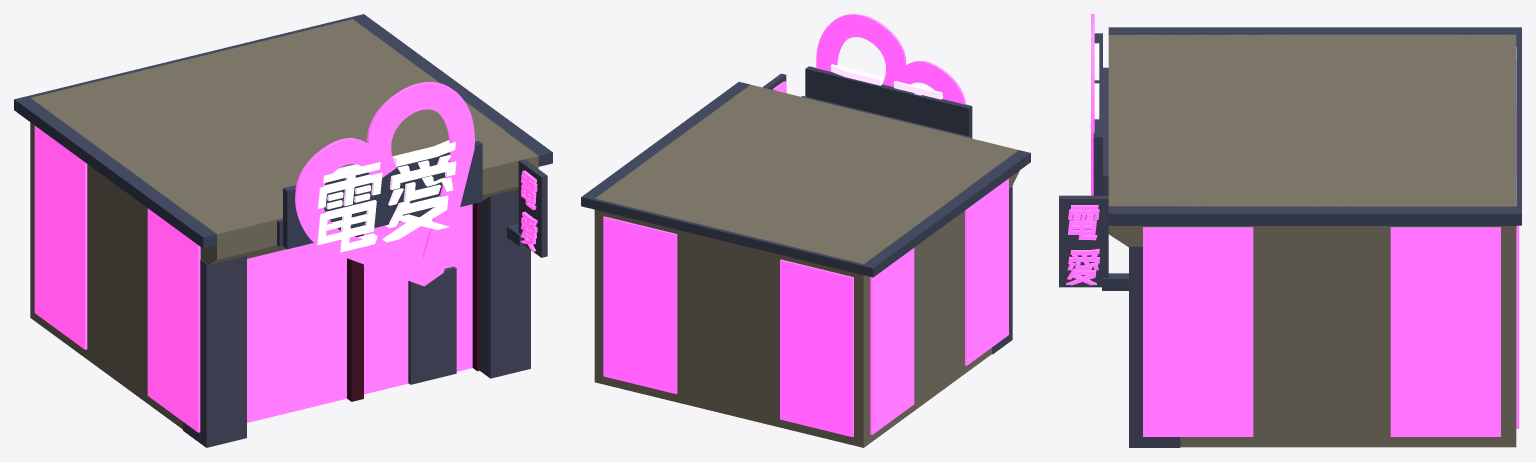
The picture shows the model from 3 angles, left to right: view 1: azimuth 30°, elevation 25°; view 2: azimuth 150°, elevation 25°; view 3: azimuth 270°, elevation 25°; orthographic projection. The views are drawn at different scales.
Parts seen in each view (by area): view 1: Cube.028, Cube.002, Text.003, Cube.017, Cube.016, Cube.007, Cube, Text.002, Cube.001, Cube.006, Cube.018, Cube.011 (+6 smaller); view 2: Cube.028, Cube.013, Cube.014, Cube.001, Cube.016, Cube.017, Cube.011, Text.003, Cube.020, Cube.018, Cube.019, Text.002 (+1 smaller); view 3: Cube.028, Cube.012, Cube.015, Cube.001, Cube.019, Cube.018, Cube, Cube.008, Text, Cube.020, Cube.011, Cube.013 (+4 smaller).
Part boxes in pixels (x1,y1,x2,y2): Cube.028: [30, 19, 505, 429]; Cube.002: [247, 204, 472, 422]; Text.003: [295, 82, 474, 286]; Cube.017: [147, 208, 200, 432]; Cube.016: [34, 125, 87, 349]; Cube.007: [183, 255, 246, 447]; Cube: [479, 189, 530, 378]; Text.002: [317, 140, 456, 252]; Cube.001: [184, 132, 538, 264]; Cube.006: [408, 266, 456, 384]; Cube.018: [16, 98, 216, 248]; Cube.011: [283, 140, 482, 249]; Cube.028: [594, 104, 992, 447]; Cube.013: [603, 216, 677, 393]; Cube.014: [780, 259, 853, 437]; Cube.001: [724, 84, 1019, 187]; Cube.016: [870, 248, 914, 434]; Cube.017: [965, 178, 1008, 365]; Cube.011: [805, 66, 972, 138]; Text.003: [816, 14, 966, 104]; Cube.020: [581, 196, 875, 277]; Cube.018: [864, 150, 1030, 275]; Cube.019: [583, 82, 750, 198]; Text.002: [830, 64, 942, 99]; Cube.028: [1180, 34, 1516, 447]; Cube.012: [1143, 227, 1253, 436]; Cube.015: [1390, 227, 1500, 436]; Cube.001: [1108, 34, 1180, 247]; Cube.019: [1108, 206, 1516, 225]; Cube.018: [1108, 27, 1516, 46]; Cube: [1129, 246, 1180, 447]; Cube.008: [1059, 195, 1108, 287]; Text: [1066, 205, 1099, 285]; Cube.020: [1516, 27, 1521, 225]; Cube.011: [1093, 33, 1102, 195]; Cube.013: [1516, 174, 1519, 428].
Size of the model in its own units: 13.47 by 12.09 by 14.12.
